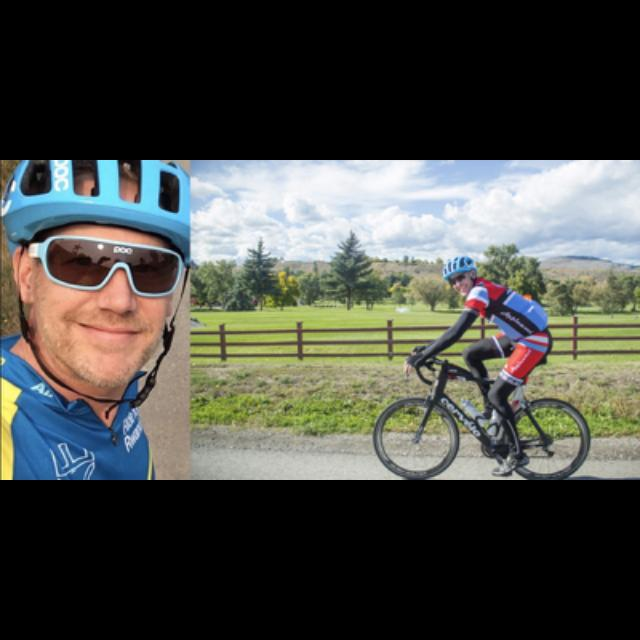With Helmet: (437, 253, 488, 303)
